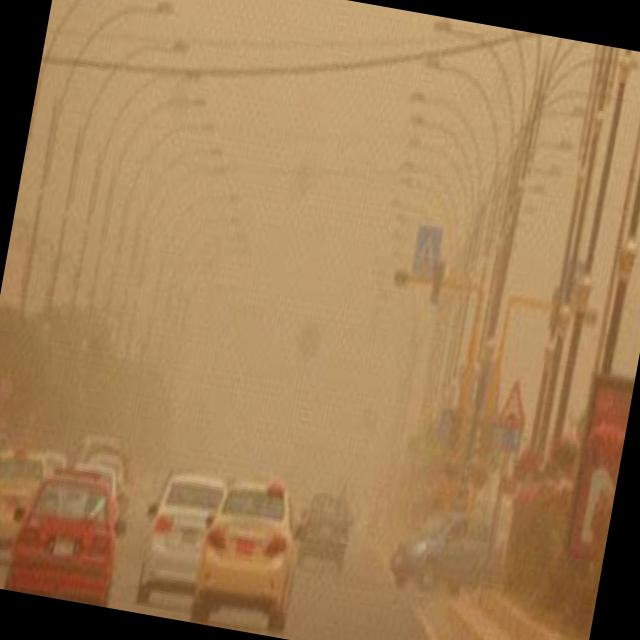car: (185, 470, 308, 636), (0, 462, 130, 608), (133, 461, 228, 609), (390, 499, 499, 600), (0, 438, 61, 564), (65, 434, 138, 529), (292, 482, 356, 573)
